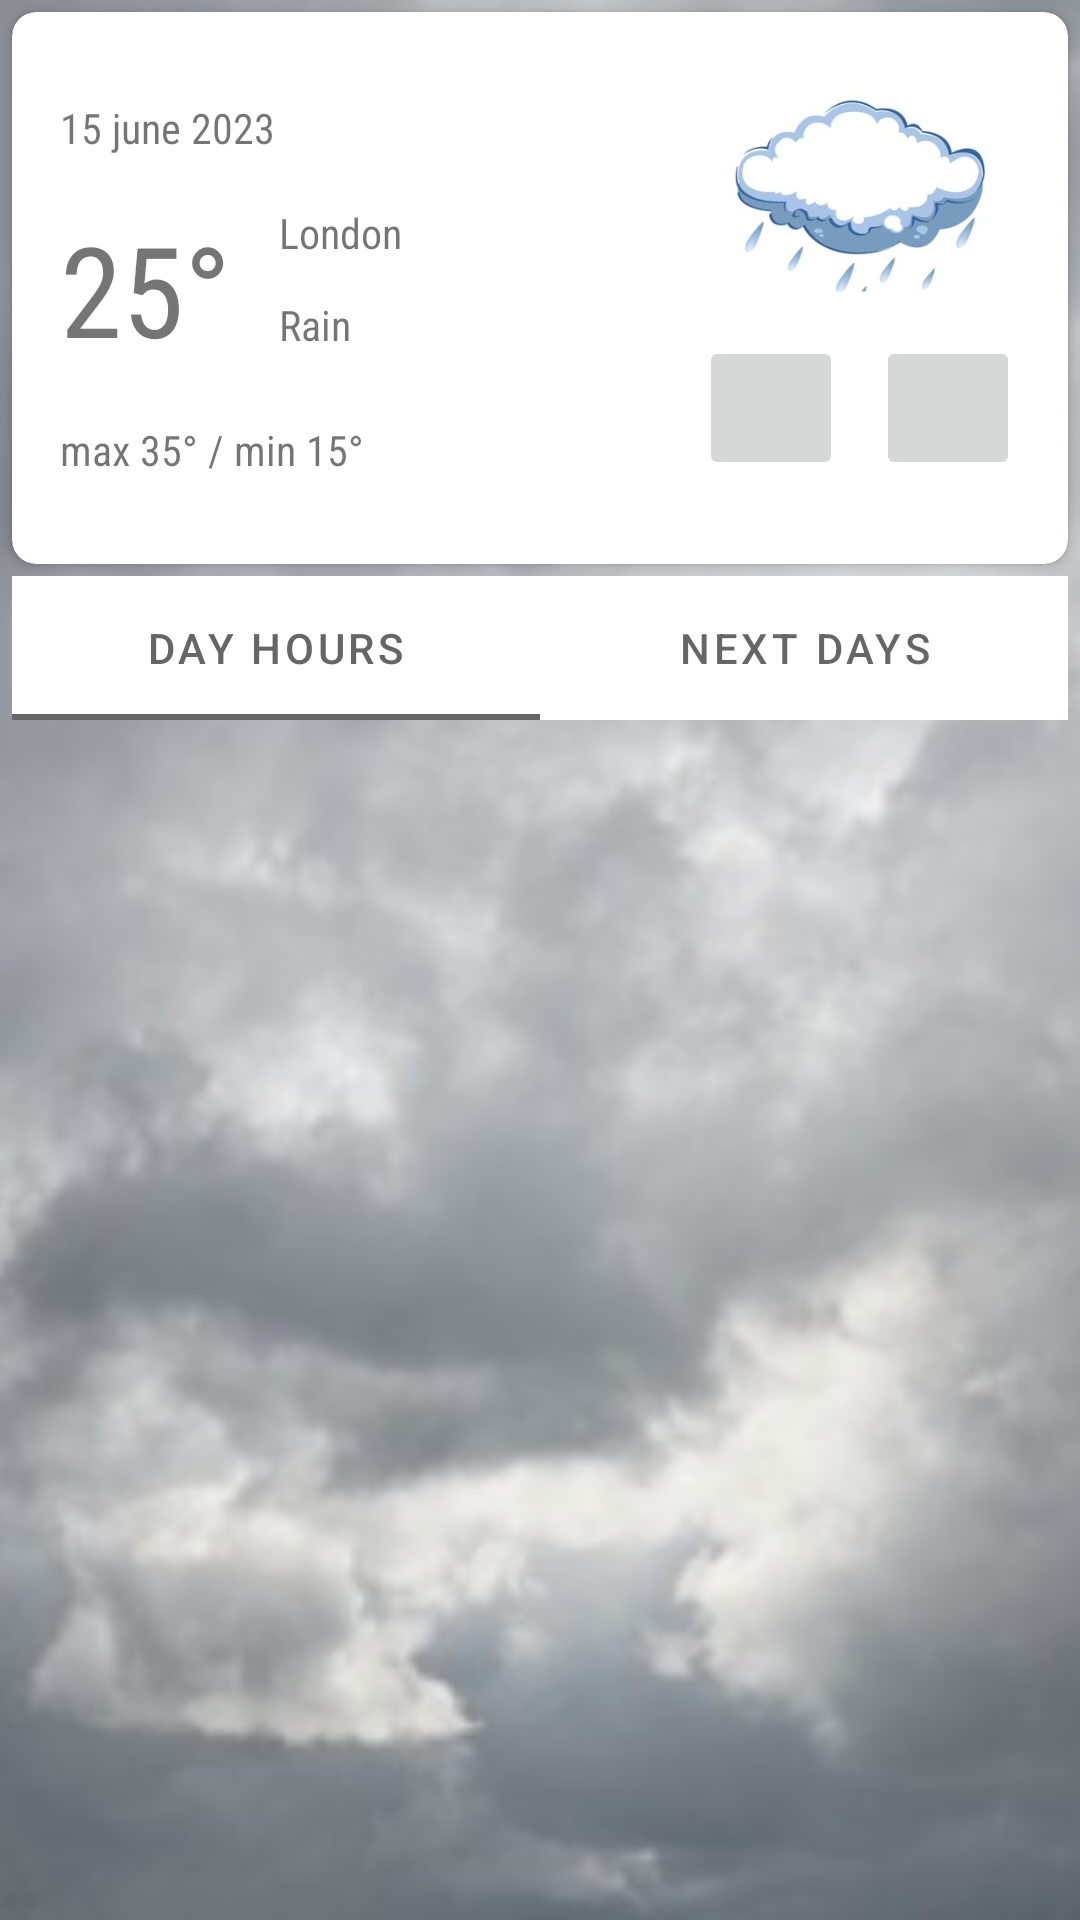

Named icons in this screenshot (1080*1920) and their centers, point (x, y):
weather: point (860, 196)
